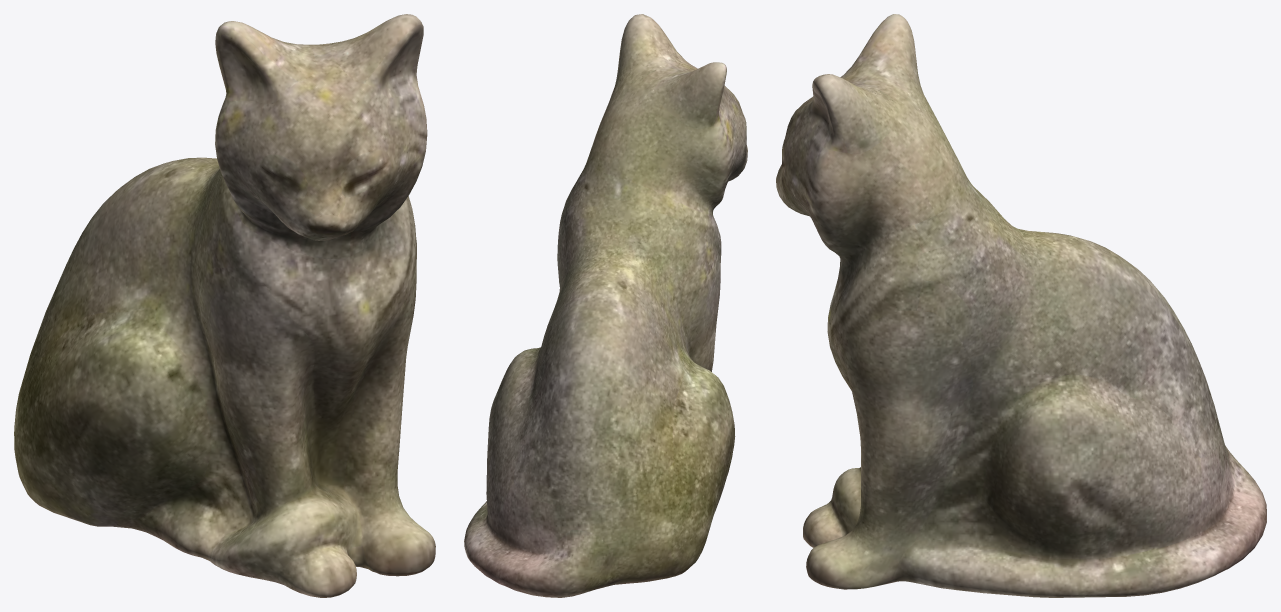
File: concrete_cat_statue.glb
The picture shows the model from 3 angles, left to right: view 1: azimuth 30°, elevation 25°; view 2: azimuth 150°, elevation 25°; view 3: azimuth 270°, elevation 25°; orthographic projection. The views are drawn at different scales.
Parts seen in each view (by area): view 1: concrete_cat_statue; view 2: concrete_cat_statue; view 3: concrete_cat_statue.
Part boxes in pixels (x1,y1,x2,y2): concrete_cat_statue: (14, 14, 435, 597); concrete_cat_statue: (464, 14, 747, 597); concrete_cat_statue: (776, 14, 1266, 597).
Size of the model in its own units: 0.153 by 0.283 by 0.25.
1 material, 1 textured.
